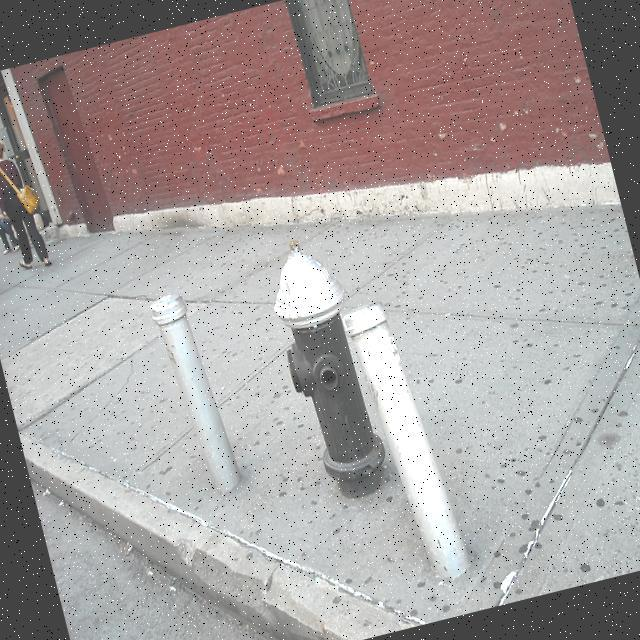fire_hydrant: (259, 238, 395, 506)
